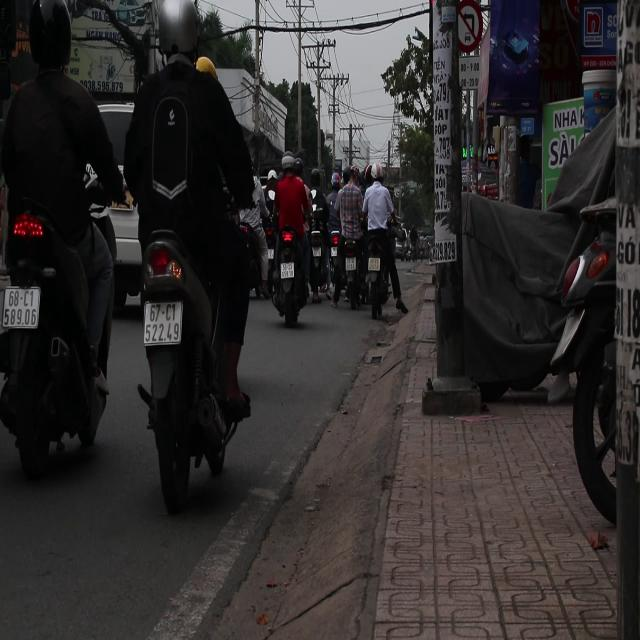motorbike: (131, 219, 250, 507), (5, 207, 107, 466), (307, 223, 336, 304), (279, 242, 305, 330), (366, 251, 392, 327)
